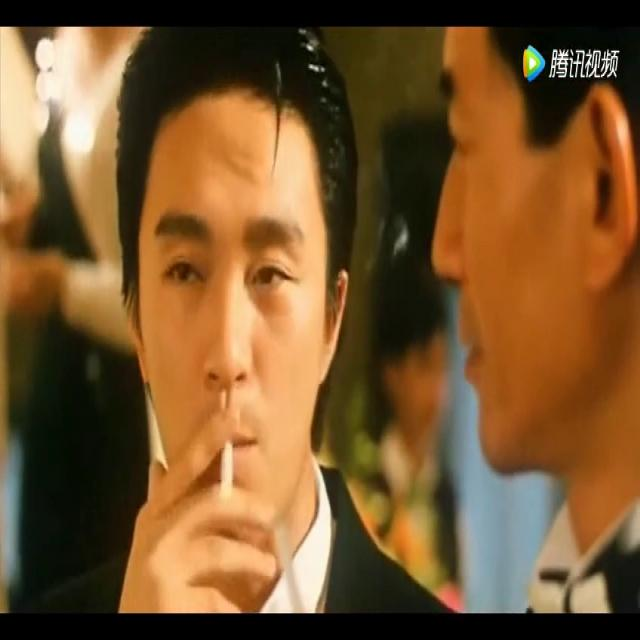smoking: (272, 512, 306, 610), (219, 428, 235, 504)
